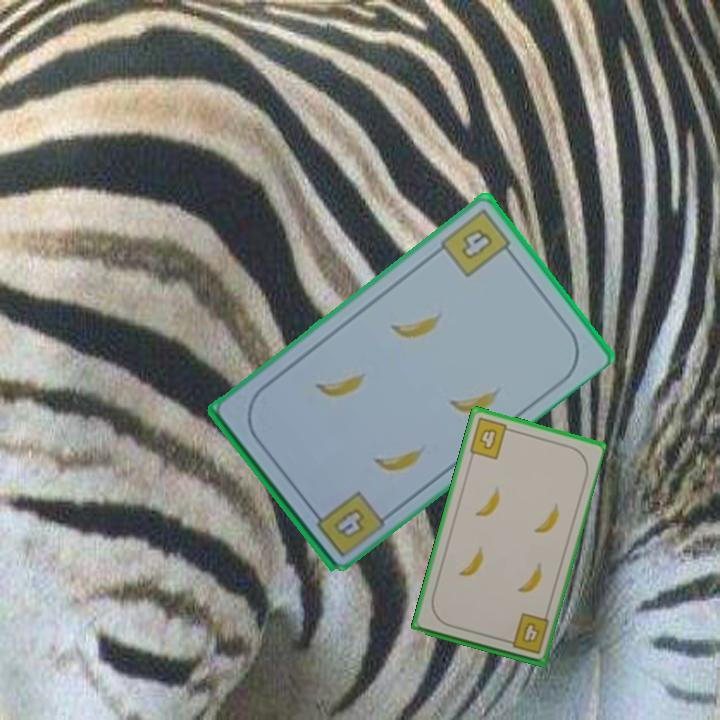4b: (436, 205, 518, 280), (465, 414, 516, 462), (500, 610, 552, 657), (334, 507, 364, 538)
